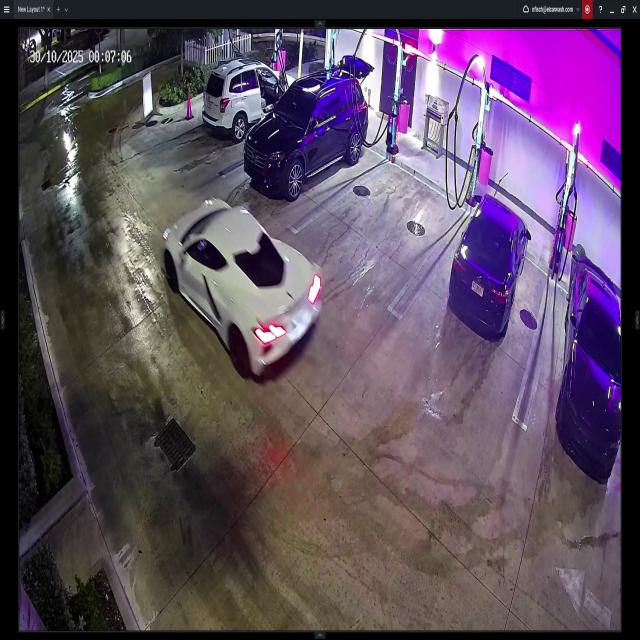Car: (162, 198, 321, 378), (243, 70, 370, 198), (556, 256, 620, 481), (447, 193, 531, 338), (202, 58, 297, 136)
